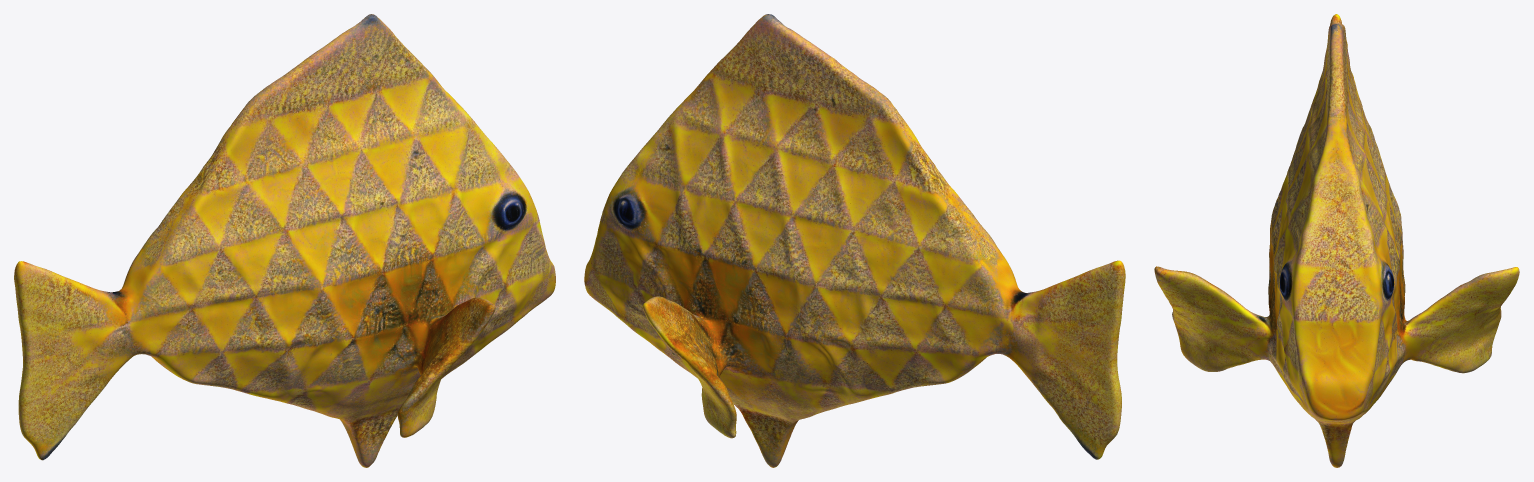
File: pescado amarillo.glb
3 views of the same model, side by side, from view 1: azimuth 30°, elevation 25°; view 2: azimuth 150°, elevation 25°; view 3: azimuth 270°, elevation 25° (orthographic).
Parts seen in each view (by area): view 1: model; view 2: model; view 3: model.
Boxes of the visible parts, x1,y1,x2,y2 form: model: [14, 14, 555, 467]; model: [584, 14, 1125, 467]; model: [1154, 14, 1519, 467].
Bounding box in the file's own units: 1.75 × 1.42 × 1.06.
Materials: 1 (1 with a texture image).
